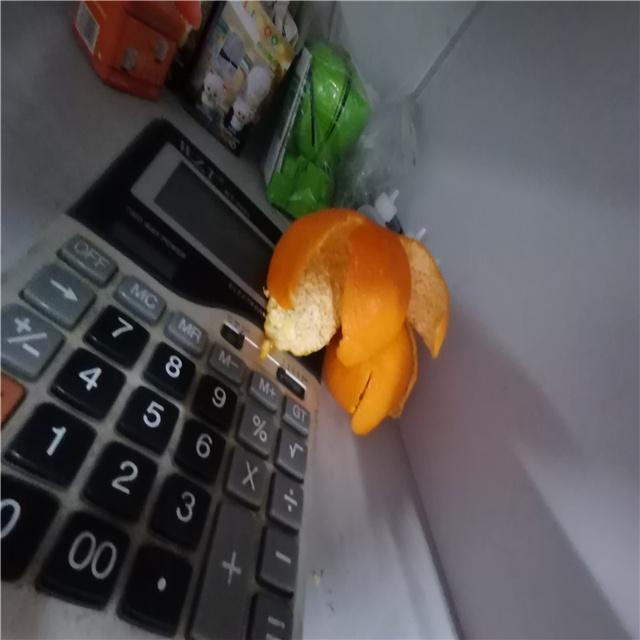orange peel: (262, 209, 451, 362), (324, 314, 422, 438)
